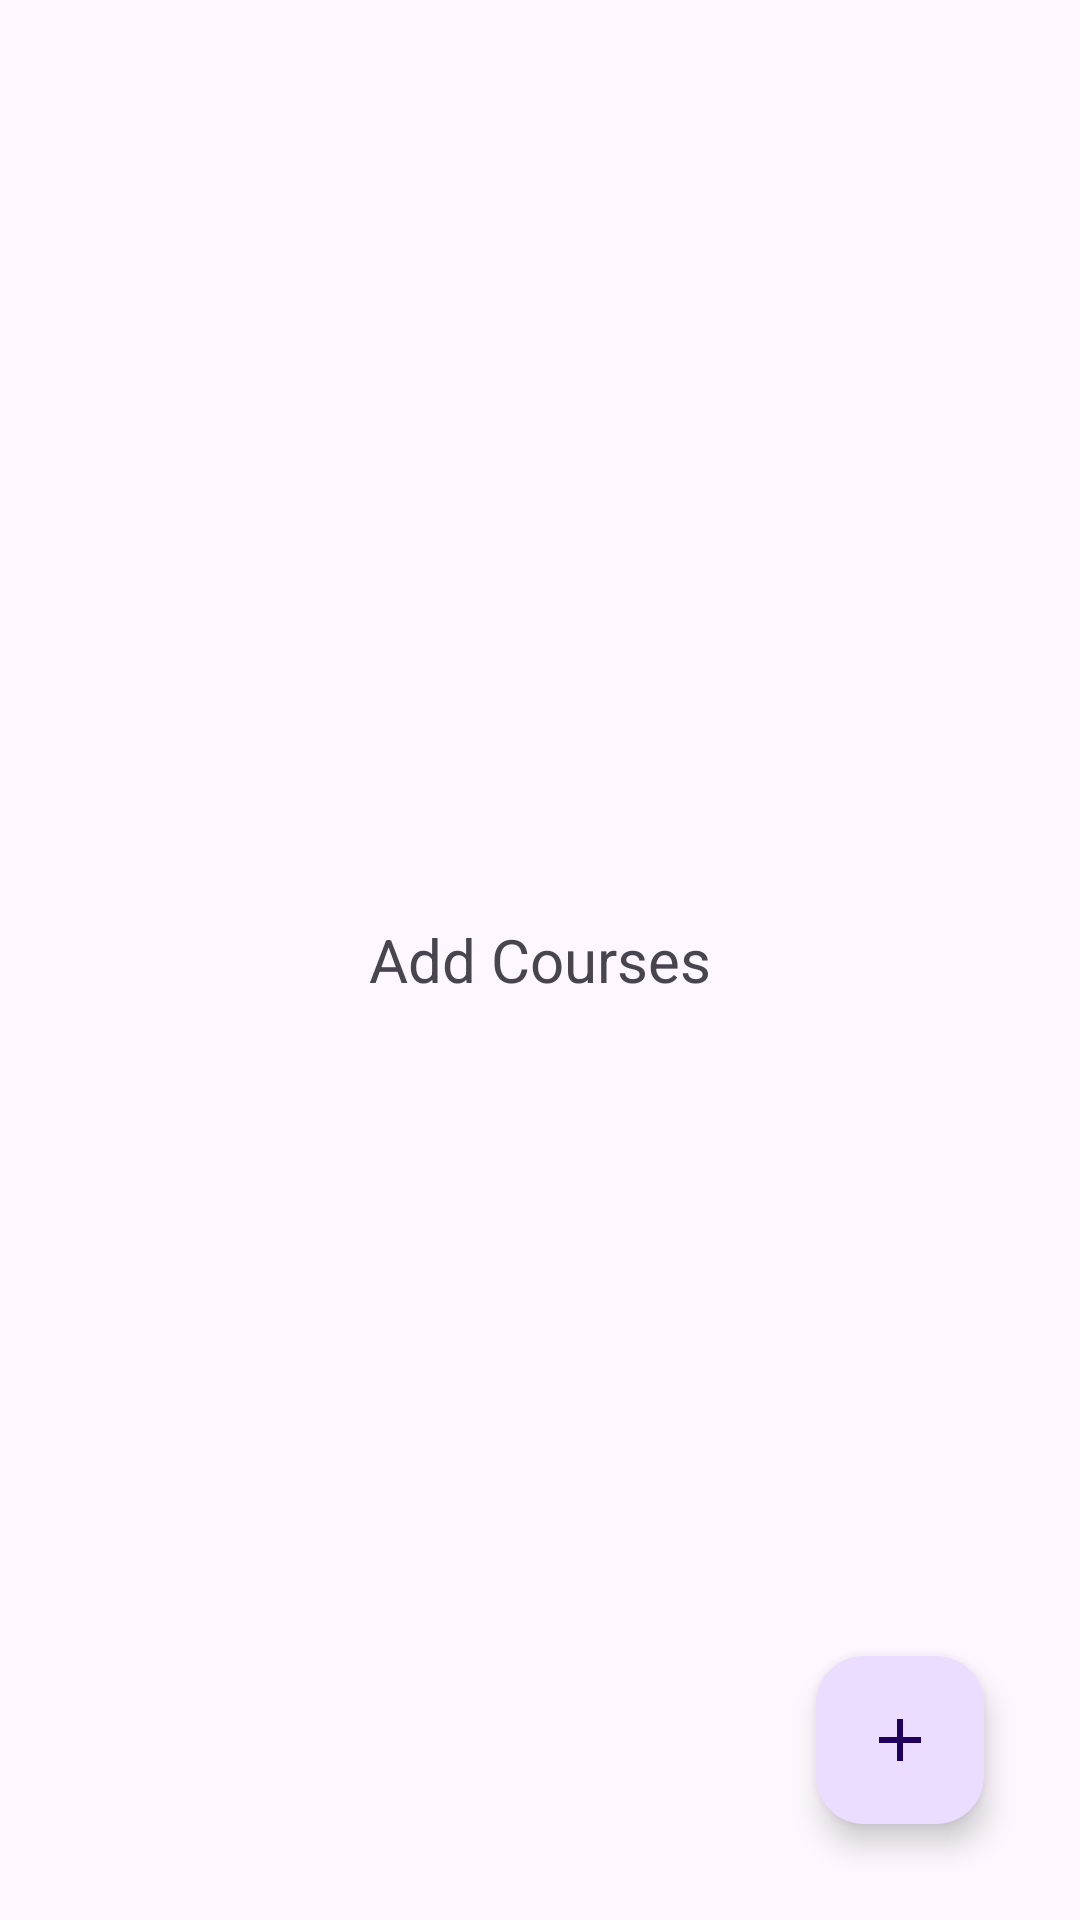

Icon click points for this 1080 x 1920 phone screenshot, format point (x, y):
add courses: point (900, 1740)
